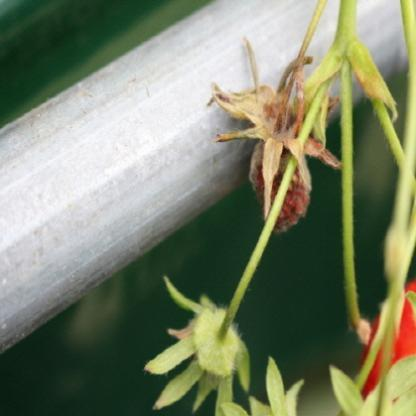Strawberry_Gray_Mold: (206, 38, 344, 234)
